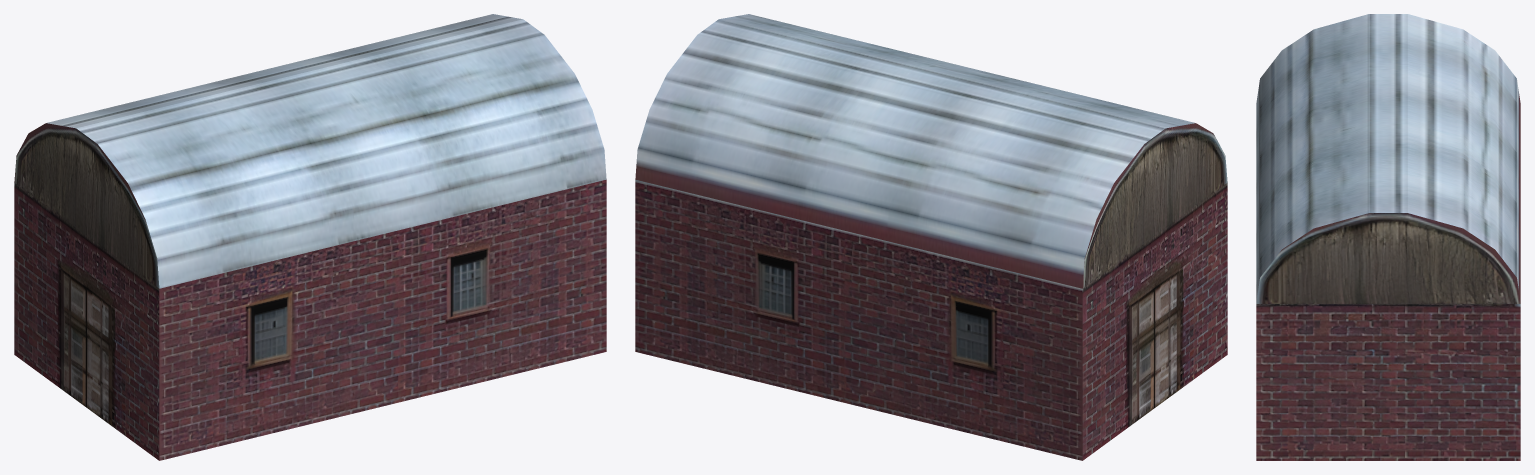
The model's file is hanger.gltf.
3 views of the same model, side by side, from view 1: azimuth 30°, elevation 25°; view 2: azimuth 150°, elevation 25°; view 3: azimuth 270°, elevation 25° (orthographic). The views are drawn at different scales.
Parts seen in each view (by area): view 1: hanger_atomic0; view 2: hanger_atomic0; view 3: hanger_atomic0.
Part boxes in pixels (x1=…): hanger_atomic0: x1=14, y1=14, x2=606, y2=460; hanger_atomic0: x1=635, y1=14, x2=1227, y2=460; hanger_atomic0: x1=1256, y1=14, x2=1520, y2=460.
Size of the model in its own units: 34.44 by 20 by 19.34.
Materials: 1 (1 with a texture image).
